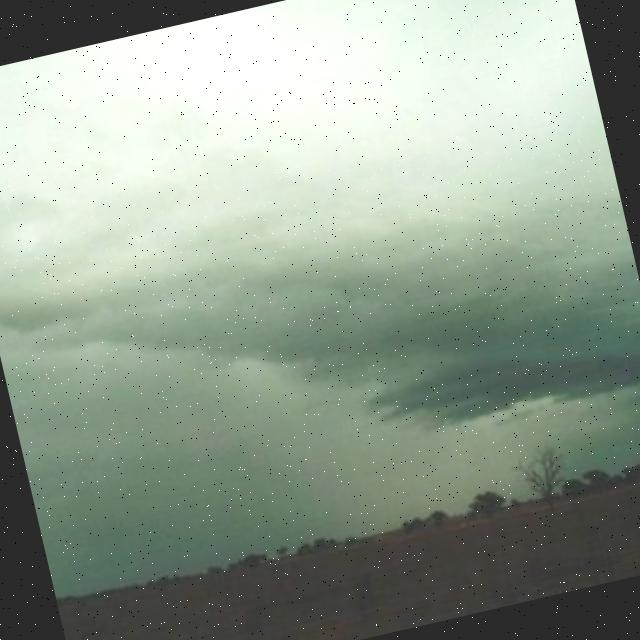Ns: (1, 84, 640, 550)
